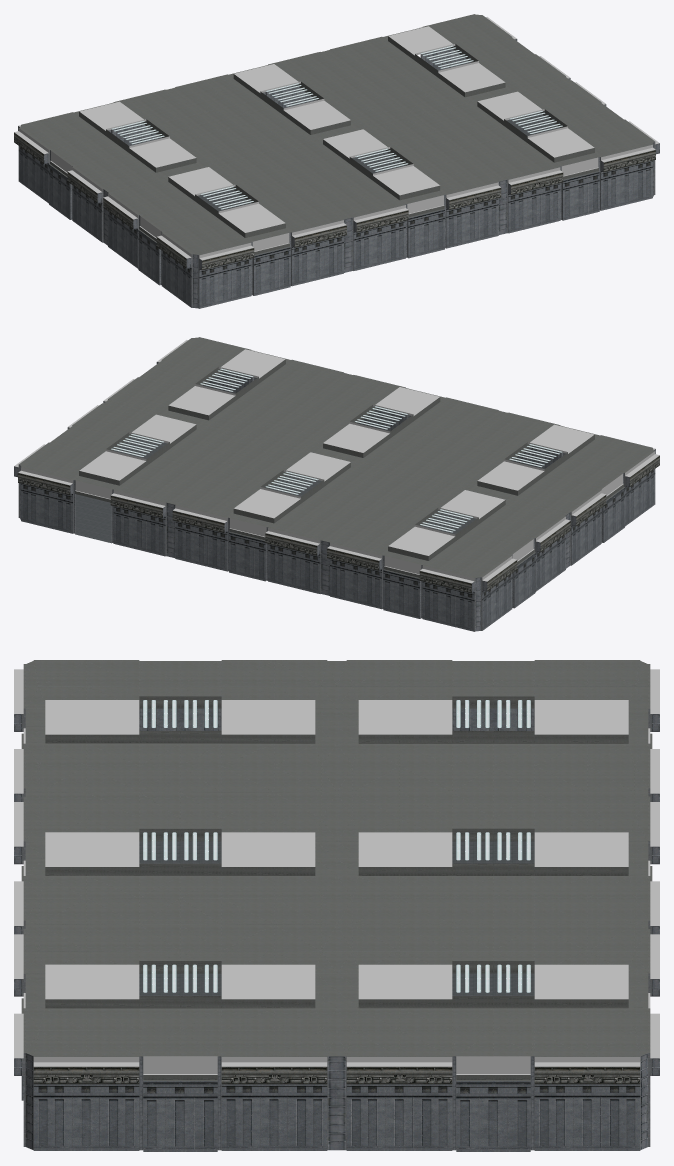
The model's file is poi_all_impl_bunker_small_outpost_s01_r31_barracks_mesh.fbx.
3 renders of one model, top to bottom at view 1: azimuth 30°, elevation 25°; view 2: azimuth 150°, elevation 25°; view 3: azimuth 270°, elevation 25°, orthographic. The views are drawn at different scales.
Visible parts, largest first — view 1: mesh_node; view 2: mesh_node; view 3: mesh_node.
Part boxes in pixels (x1,y1,x2,y2): mesh_node: (14,14,659,308); mesh_node: (14,337,659,631); mesh_node: (14,660,659,1151).
Size of the model in its own units: 49 by 6 by 33.
